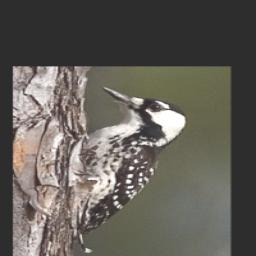Woodpecker: (66, 85, 192, 235)
